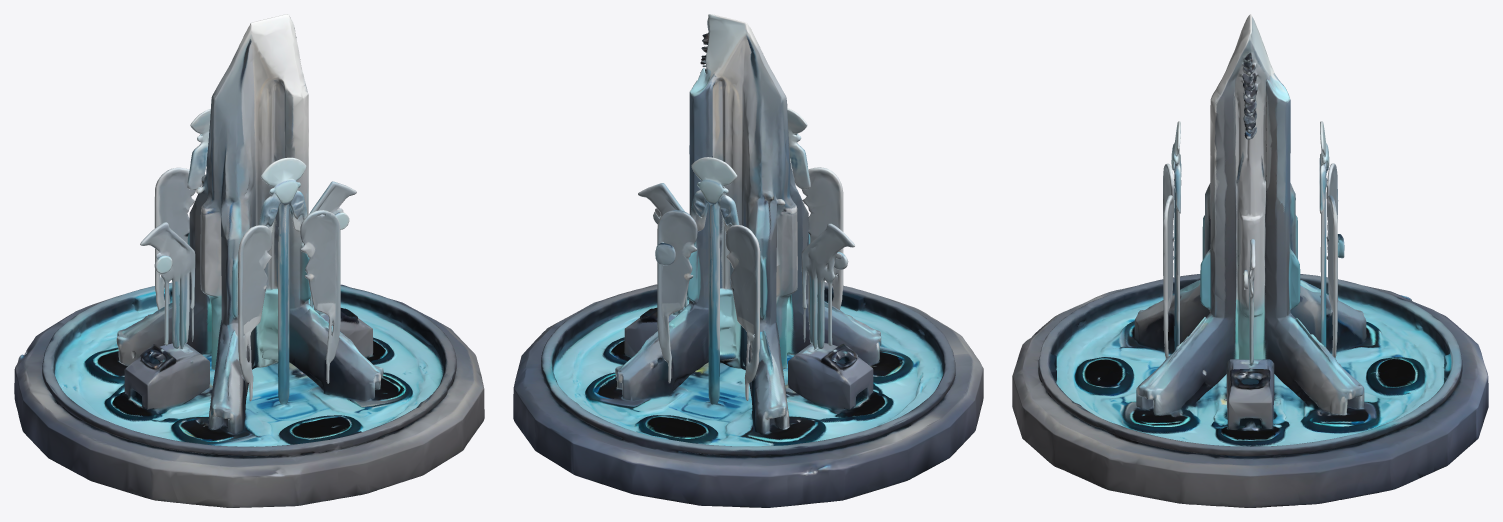
File: plaza-fountain-modern.glb
3 renders of one model, left to right at view 1: azimuth 30°, elevation 25°; view 2: azimuth 150°, elevation 25°; view 3: azimuth 270°, elevation 25°, orthographic. The views are drawn at different scales.
Visible parts, largest first — view 1: tripo_node_0105f067-d083-4e37-8e52-363b12506d6a; view 2: tripo_node_0105f067-d083-4e37-8e52-363b12506d6a; view 3: tripo_node_0105f067-d083-4e37-8e52-363b12506d6a.
Boxes of the visible parts, x1,y1,x2,y2 form: tripo_node_0105f067-d083-4e37-8e52-363b12506d6a: [14, 14, 484, 507]; tripo_node_0105f067-d083-4e37-8e52-363b12506d6a: [513, 14, 983, 507]; tripo_node_0105f067-d083-4e37-8e52-363b12506d6a: [1012, 14, 1488, 507].
Size of the model in its own units: 3.07 by 3 by 3.07.
Materials: 1 (1 with a texture image).
